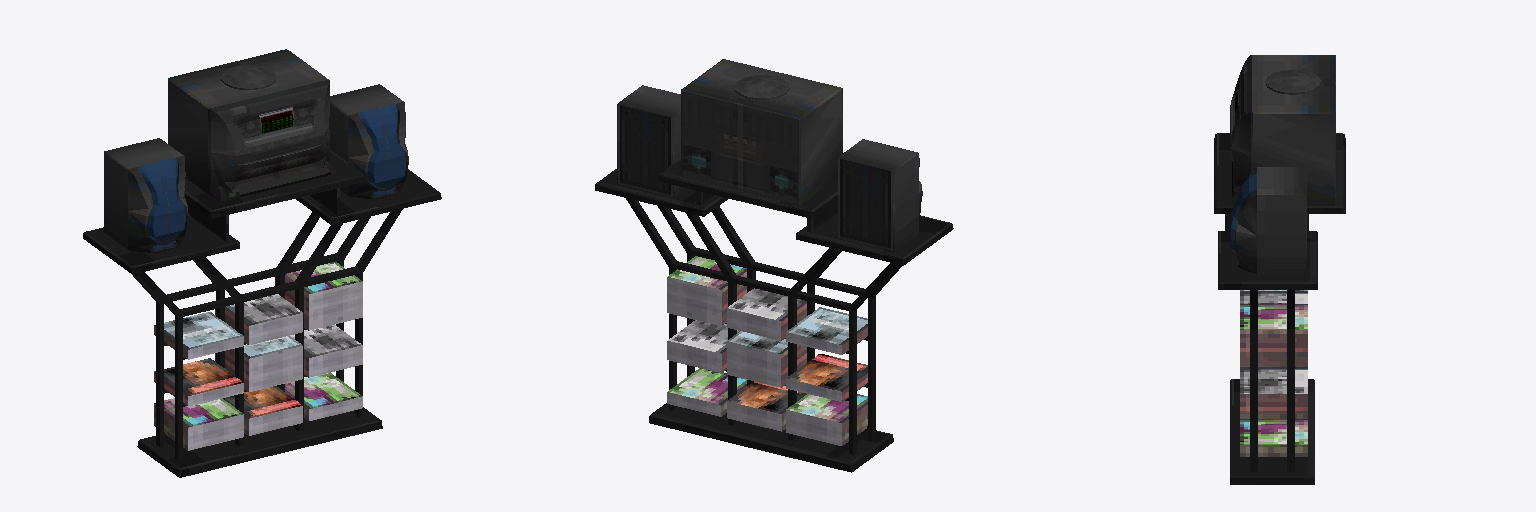
3 views of the same model, side by side, from view 1: azimuth 30°, elevation 25°; view 2: azimuth 150°, elevation 25°; view 3: azimuth 270°, elevation 25° (orthographic).
Parts seen in each view (by area): view 1: stereo1, equalizer; view 2: stereo1; view 3: stereo1.
Boxes of the visible parts, box(x1,y1,x2,y2) form: stereo1: box(83, 49, 441, 477); equalizer: box(259, 107, 294, 134); stereo1: box(595, 59, 953, 472); stereo1: box(1214, 55, 1345, 484).
Size of the model in its own units: 0.7474 by 0.8272 by 0.2742.
Materials: 2 (2 with a texture image).